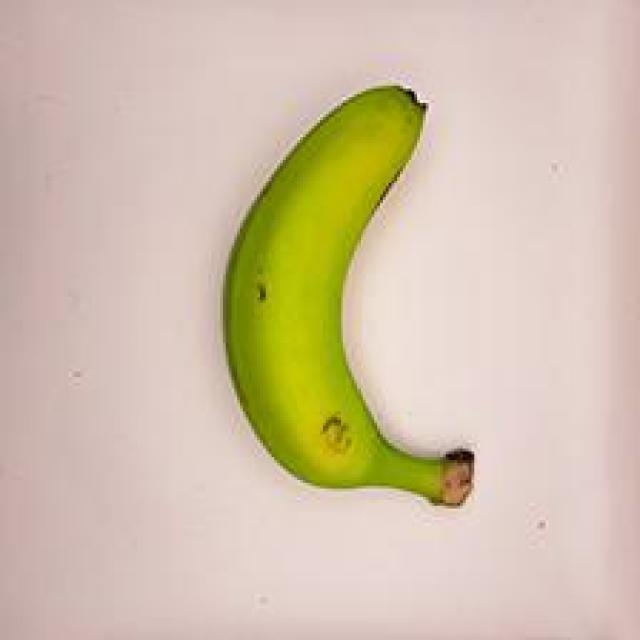Unripe: (186, 48, 499, 528)
